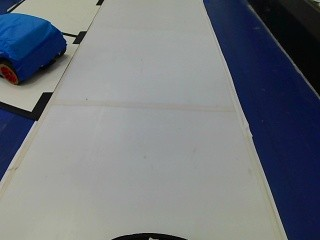car: (0, 6, 64, 84)
